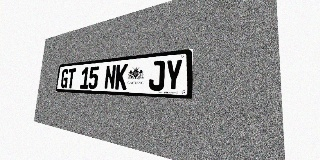1: (80, 67, 90, 89)
5: (88, 66, 99, 89)
G: (60, 69, 69, 88)
J: (148, 60, 165, 91)
K: (115, 63, 128, 90)
N: (104, 65, 116, 89)
T: (67, 68, 76, 88)
Y: (164, 59, 183, 91)
